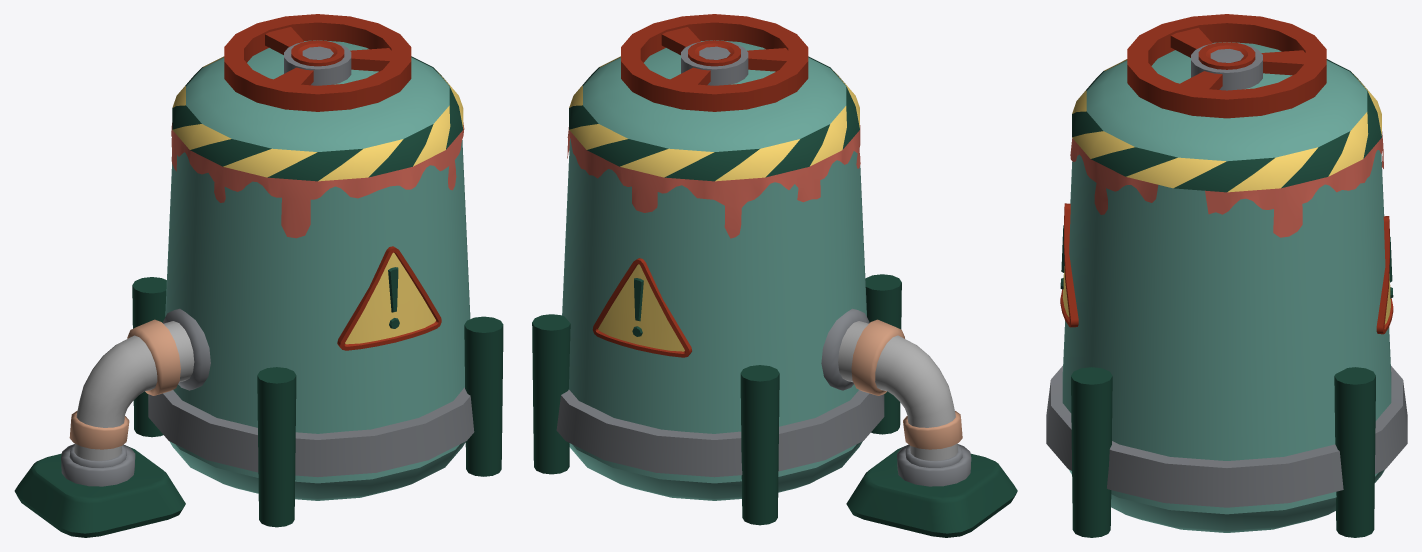
File: BR_ToxicBarrel_02.fbx
The picture shows the model from 3 angles, left to right: view 1: azimuth 30°, elevation 25°; view 2: azimuth 150°, elevation 25°; view 3: azimuth 270°, elevation 25°; orthographic projection. The views are drawn at different scales.
Parts seen in each view (by area): view 1: BR_ToxicBarrel_3x3x2; view 2: BR_ToxicBarrel_3x3x2; view 3: BR_ToxicBarrel_3x3x2.
Boxes of the visible parts, <box> form: BR_ToxicBarrel_3x3x2: <box>14,14,503,537</box>; BR_ToxicBarrel_3x3x2: <box>532,14,1017,537</box>; BR_ToxicBarrel_3x3x2: <box>1046,14,1407,537</box>.
Size of the model in its own units: 316 by 281 by 217.
